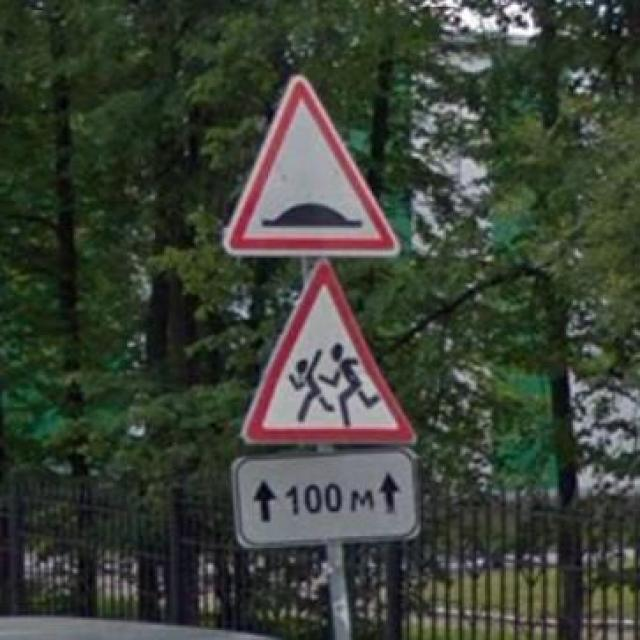traffic_sign: (222, 74, 404, 258), (240, 260, 418, 447)
